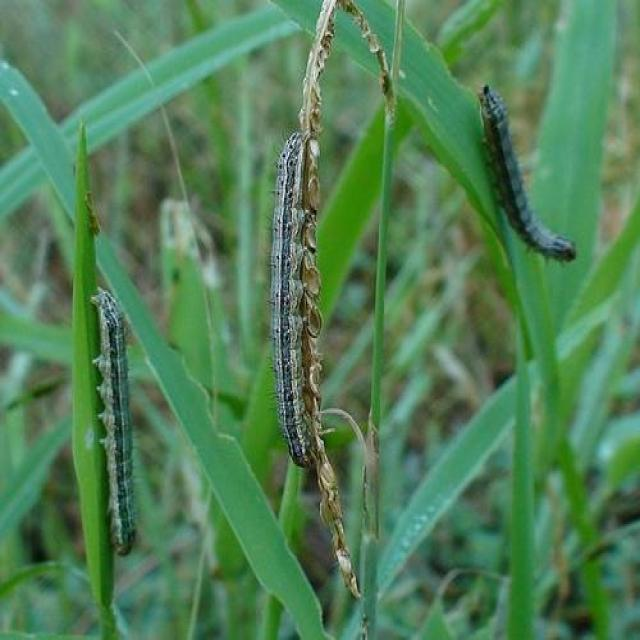army worm: (268, 128, 330, 478), (473, 76, 582, 262), (89, 286, 149, 559)
